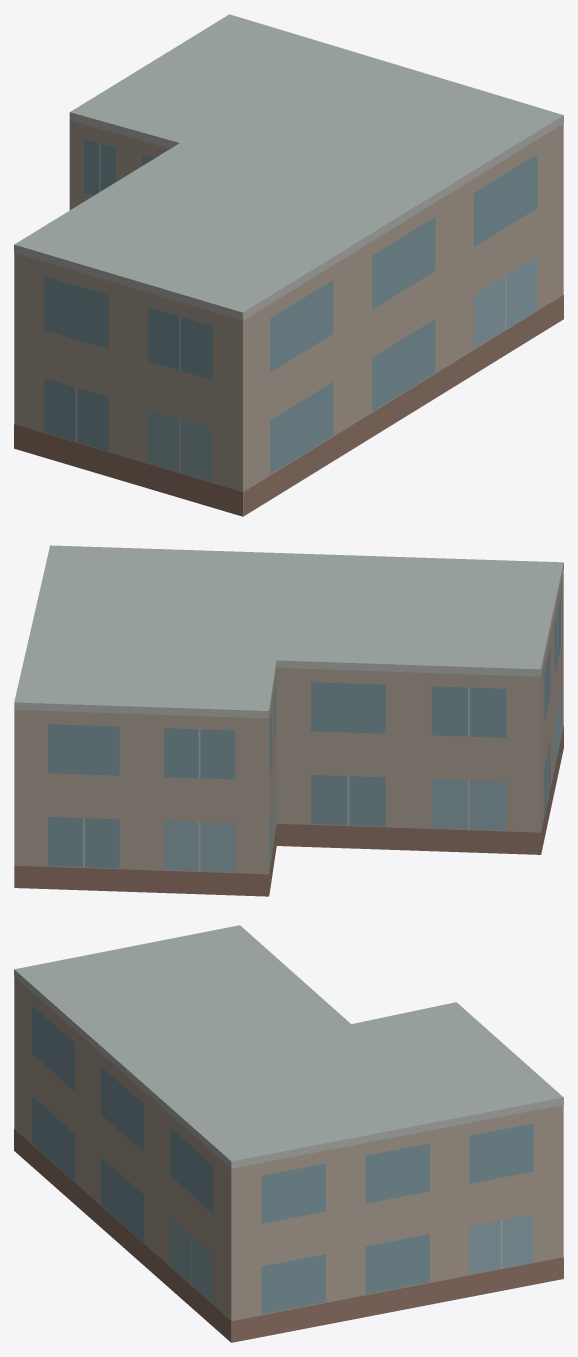
The model's file is survey-upis-33022991.glb.
3 views of the same model, one above another, from view 1: azimuth 30°, elevation 25°; view 2: azimuth 150°, elevation 25°; view 3: azimuth 270°, elevation 25° (orthographic). The views are drawn at different scales.
Parts seen in each view (by area): view 1: survey-upis-33022991.tmp; view 2: survey-upis-33022991.tmp; view 3: survey-upis-33022991.tmp.
Part boxes in pixels (left/top/right/bottom): survey-upis-33022991.tmp: left=14, top=14, right=563, bottom=516; survey-upis-33022991.tmp: left=14, top=545, right=563, bottom=896; survey-upis-33022991.tmp: left=14, top=925, right=563, bottom=1342.
Bounding box in the file's own units: 17.06 × 6.1 × 16.77.
